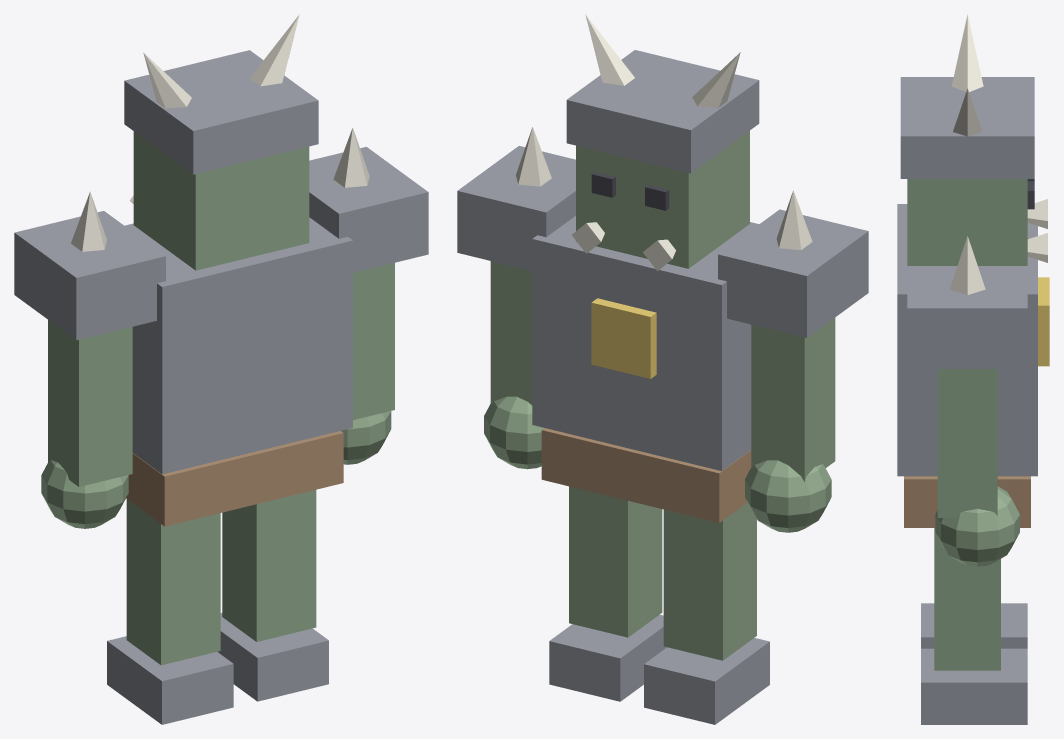
Rendered from miniboss_orc_warlord.glb.
3 views of the same model, side by side, from view 1: azimuth 30°, elevation 25°; view 2: azimuth 150°, elevation 25°; view 3: azimuth 270°, elevation 25° (orthographic). The views are drawn at different scales.
Parts seen in each view (by area): view 1: miniboss_orc_warlord_05, miniboss_orc_warlord_15, miniboss_orc_warlord_20, miniboss_orc_warlord_07, miniboss_orc_warlord_02, miniboss_orc_warlord_03, miniboss_orc_warlord_11, miniboss_orc_warlord_04, miniboss_orc_warlord_08, miniboss_orc_warlord_00, miniboss_orc_warlord_12, miniboss_orc_warlord_01 (+6 smaller); view 2: miniboss_orc_warlord_05, miniboss_orc_warlord_20, miniboss_orc_warlord_15, miniboss_orc_warlord_07, miniboss_orc_warlord_02, miniboss_orc_warlord_03, miniboss_orc_warlord_11, miniboss_orc_warlord_04, miniboss_orc_warlord_08, miniboss_orc_warlord_00, miniboss_orc_warlord_01, miniboss_orc_warlord_12 (+7 smaller); view 3: miniboss_orc_warlord_20, miniboss_orc_warlord_05, miniboss_orc_warlord_08, miniboss_orc_warlord_15, miniboss_orc_warlord_12, miniboss_orc_warlord_03, miniboss_orc_warlord_01, miniboss_orc_warlord_14, miniboss_orc_warlord_04, miniboss_orc_warlord_00, miniboss_orc_warlord_21, miniboss_orc_warlord_10 (+4 smaller).
Part boxes in pixels (x1=…): miniboss_orc_warlord_05: x1=125, y1=217, x2=352, y2=474; miniboss_orc_warlord_15: x1=133, y1=131, x2=309, y2=270; miniboss_orc_warlord_20: x1=124, y1=50, x2=318, y2=174; miniboss_orc_warlord_07: x1=14, y1=211, x2=165, y2=340; miniboss_orc_warlord_02: x1=126, y1=499, x2=220, y2=665; miniboss_orc_warlord_03: x1=222, y1=490, x2=316, y2=641; miniboss_orc_warlord_11: x1=48, y1=320, x2=132, y2=486; miniboss_orc_warlord_04: x1=126, y1=431, x2=343, y2=526; miniboss_orc_warlord_08: x1=309, y1=146, x2=428, y2=272; miniboss_orc_warlord_00: x1=107, y1=636, x2=233, y2=724; miniboss_orc_warlord_12: x1=353, y1=263, x2=394, y2=419; miniboss_orc_warlord_01: x1=217, y1=613, x2=328, y2=701; miniboss_orc_warlord_05: x1=532, y1=216, x2=758, y2=470; miniboss_orc_warlord_20: x1=566, y1=50, x2=759, y2=173; miniboss_orc_warlord_15: x1=576, y1=131, x2=749, y2=268; miniboss_orc_warlord_07: x1=718, y1=209, x2=868, y2=337; miniboss_orc_warlord_02: x1=663, y1=502, x2=756, y2=660; miniboss_orc_warlord_03: x1=569, y1=486, x2=662, y2=637; miniboss_orc_warlord_11: x1=751, y1=318, x2=835, y2=481; miniboss_orc_warlord_04: x1=541, y1=428, x2=751, y2=522; miniboss_orc_warlord_08: x1=457, y1=146, x2=575, y2=270; miniboss_orc_warlord_00: x1=644, y1=638, x2=769, y2=724; miniboss_orc_warlord_01: x1=549, y1=614, x2=666, y2=701; miniboss_orc_warlord_12: x1=490, y1=261, x2=532, y2=405; miniboss_orc_warlord_20: x1=900, y1=77, x2=1034, y2=178; miniboss_orc_warlord_05: x1=897, y1=204, x2=1037, y2=476; miniboss_orc_warlord_08: x1=907, y1=266, x2=1027, y2=368; miniboss_orc_warlord_15: x1=907, y1=179, x2=1027, y2=265; miniboss_orc_warlord_12: x1=937, y1=369, x2=997, y2=517; miniboss_orc_warlord_03: x1=934, y1=528, x2=1000, y2=670; miniboss_orc_warlord_01: x1=921, y1=648, x2=1027, y2=724; miniboss_orc_warlord_14: x1=935, y1=486, x2=1019, y2=566; miniboss_orc_warlord_04: x1=904, y1=476, x2=1030, y2=527; miniboss_orc_warlord_00: x1=921, y1=603, x2=1027, y2=648; miniboss_orc_warlord_21: x1=951, y1=14, x2=983, y2=91; miniboss_orc_warlord_10: x1=949, y1=236, x2=985, y2=294.
Size of the model in its own units: 1.18 by 2.09 by 0.455.
